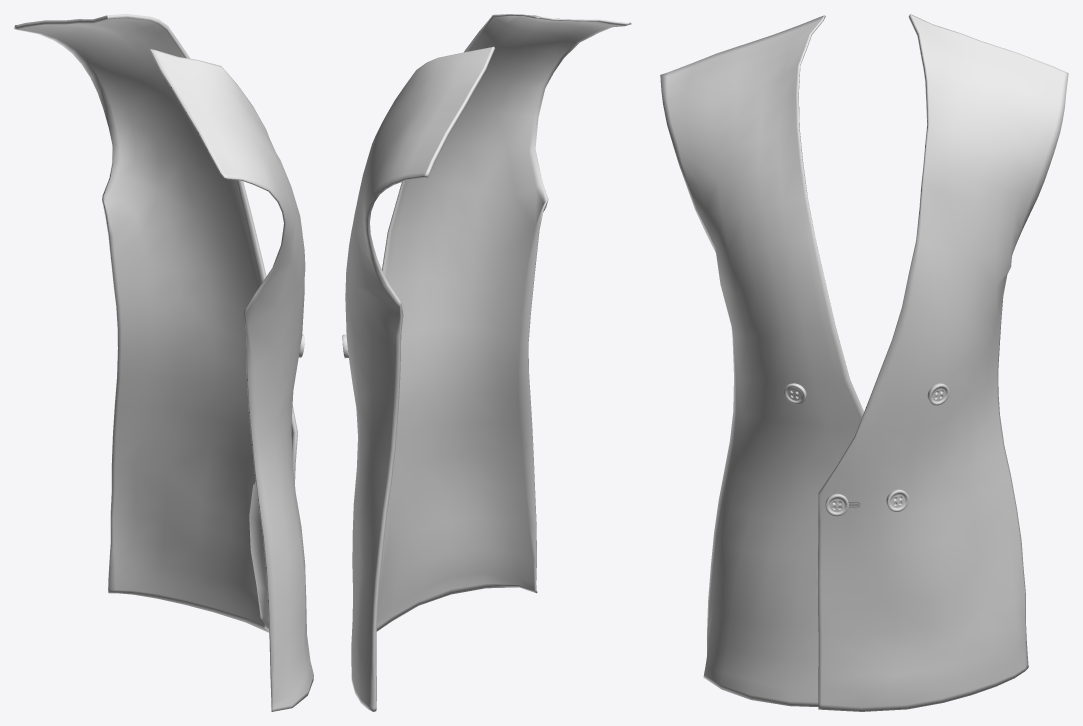
The picture shows the model from 3 angles, left to right: view 1: azimuth 30°, elevation 25°; view 2: azimuth 150°, elevation 25°; view 3: azimuth 270°, elevation 25°; orthographic projection.
Visible parts, largest first — view 1: SM_J_FrontB4*1; view 2: SM_J_FrontB4*1; view 3: SM_J_FrontB4*1, SM_J_B_FrontB4*1.
Boxes of the visible parts, x1=… form: SM_J_FrontB4*1: x1=14, y1=14, x2=313, y2=711; SM_J_FrontB4*1: x1=345, y1=14, x2=631, y2=711; SM_J_FrontB4*1: x1=660, y1=14, x2=1068, y2=711; SM_J_B_FrontB4*1: x1=783, y1=383, x2=949, y2=516.
Bounding box in the file's own units: 1.07 × 4.04 × 2.37.
4 materials, 1 textured.
